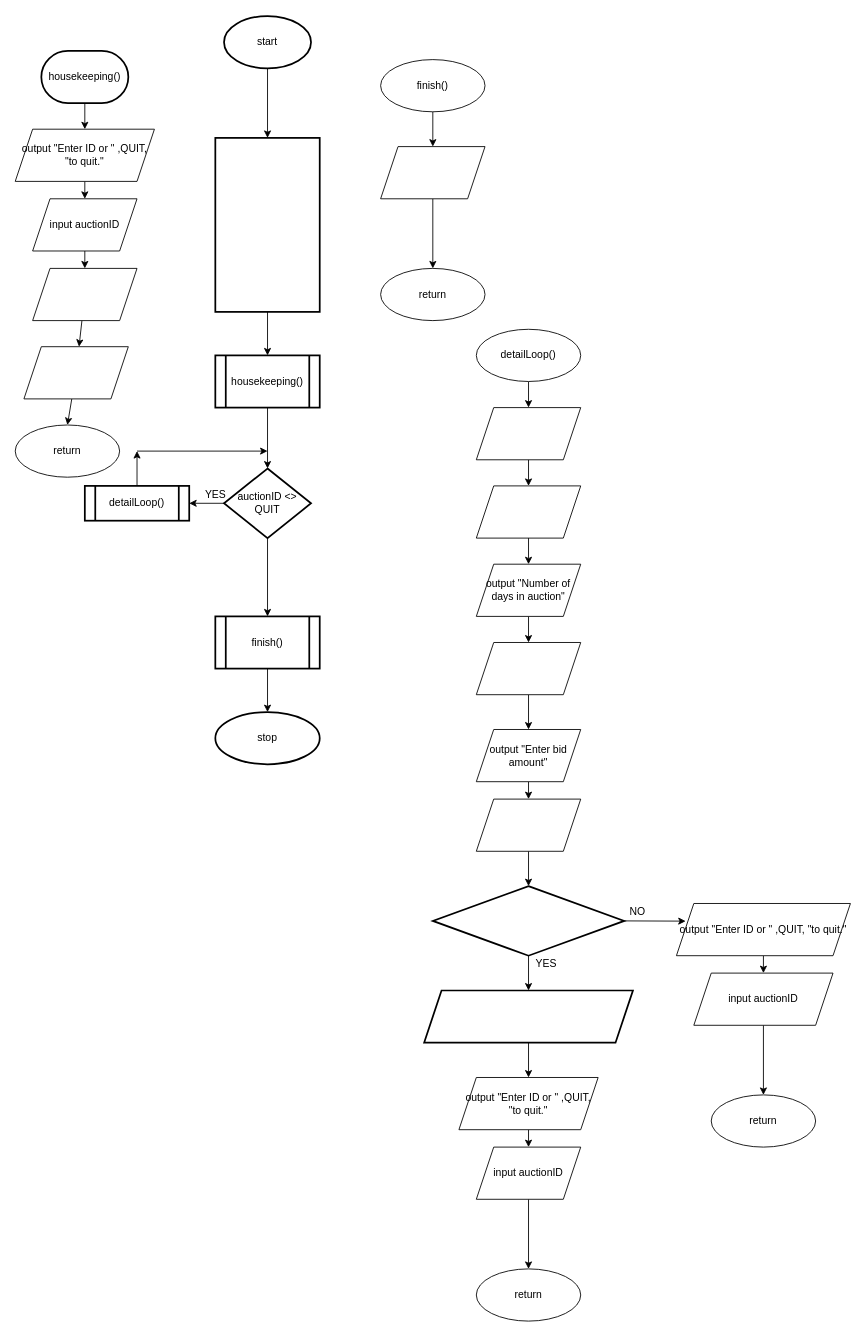
Image size: 866x1336. Some labels were removed from this diagram. Here are the shapes that lost their labels. From the top down, the box of each, then its label:
(380, 146, 485, 199): output "End of program"
(214, 137, 320, 312): num auctionID string description num days num bid num maxbid num QUIT = 999
(32, 268, 137, 321): output "Enter the max bid"
(23, 346, 128, 399): input maxbid
(475, 407, 581, 460): output "Enter description"
(475, 485, 581, 538): input description
(475, 642, 581, 695): input days
(475, 798, 581, 851): input bid
(432, 885, 625, 956): days >= 14 AND days <= 28
(423, 989, 633, 1043): output auctionID, description, days, "in auction, bid is $", bid
